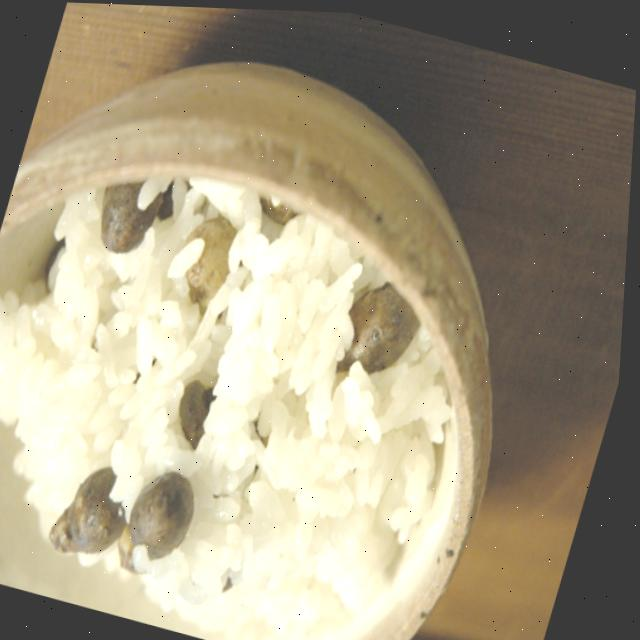米饭主食: (0, 1, 612, 640)
